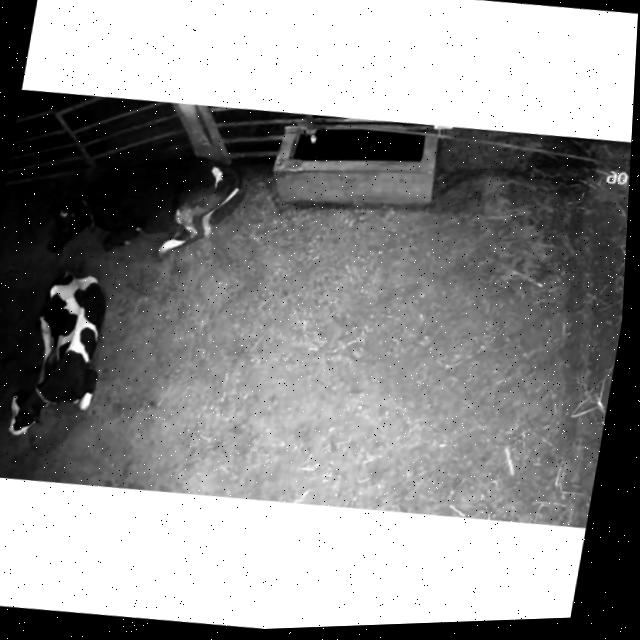lay: (33, 128, 259, 282), (0, 252, 129, 457)
